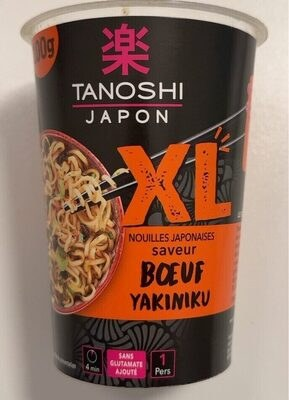Nouilles japonaise saveur boeuf yakiniku: (14, 20, 275, 380)
